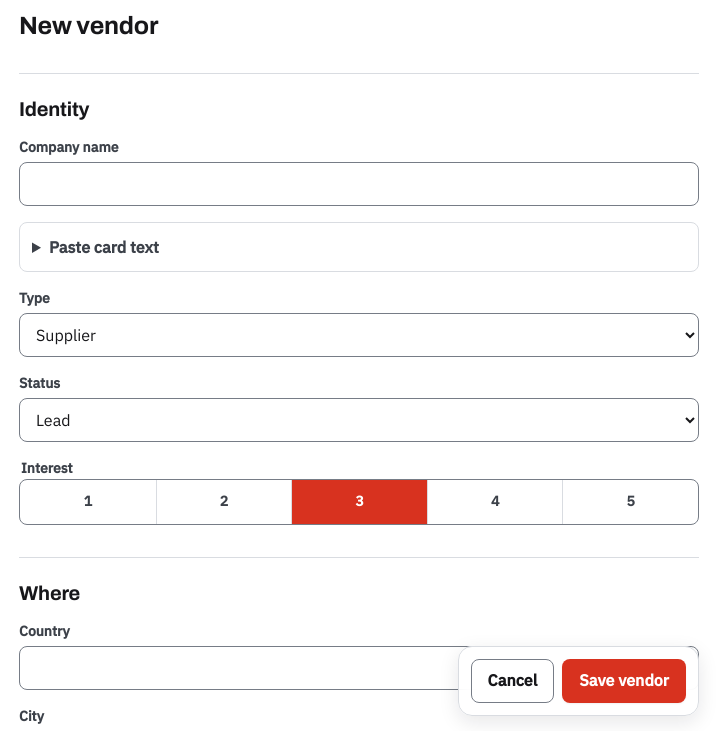
Test: VendorForm › shows "Draft saved" in the form bar only once a draft is written
Check: the text "draft saved" is not shown
Type "ACME" into the field labelled "Company name" at (359, 184), box [19,162,699,206]
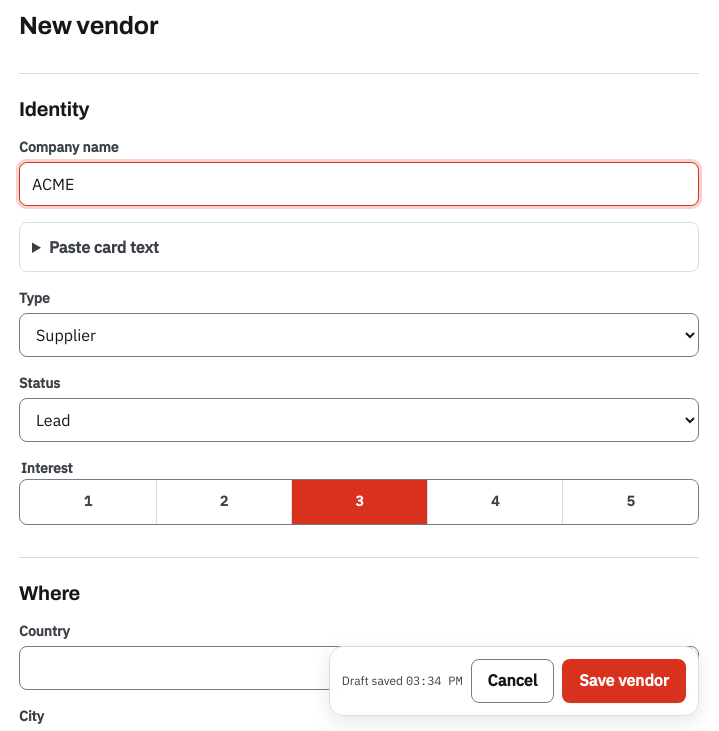
Check: the text "Draft saved 03:34 PM" is shown, box [342,674,462,688]
